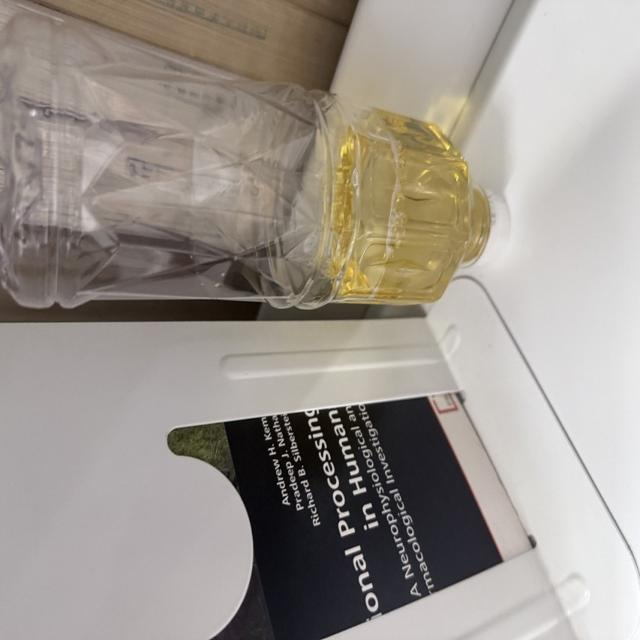low: (0, 14, 506, 308)
